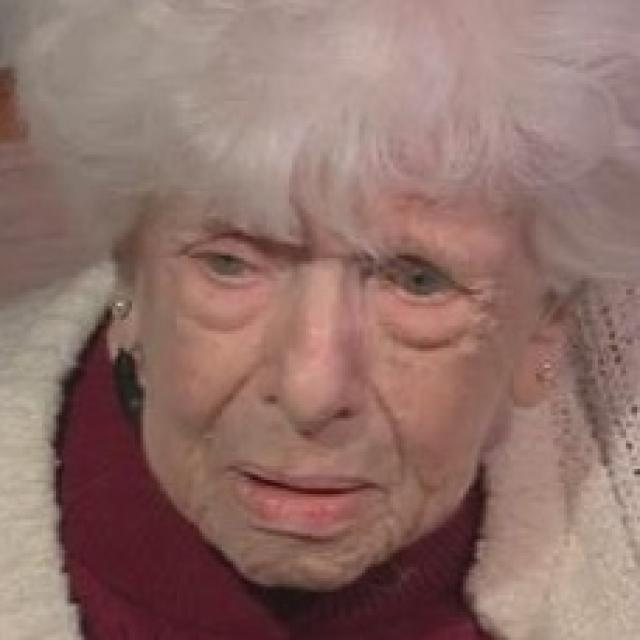Depress: (145, 125, 545, 589)
